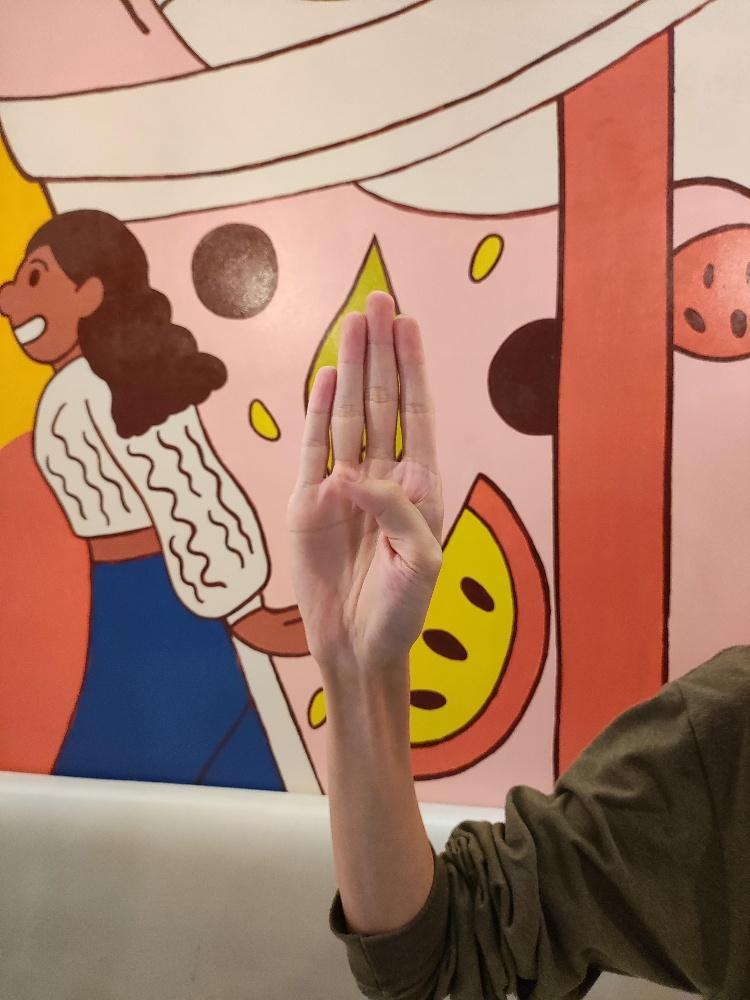b: (280, 287, 444, 676)
